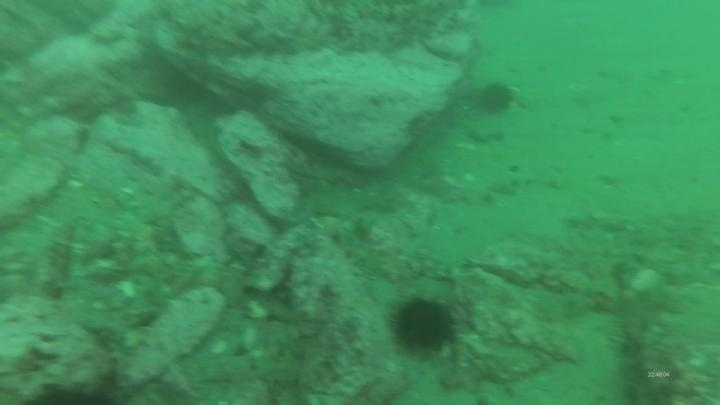echinus: (387, 293, 460, 359), (474, 79, 516, 118)
